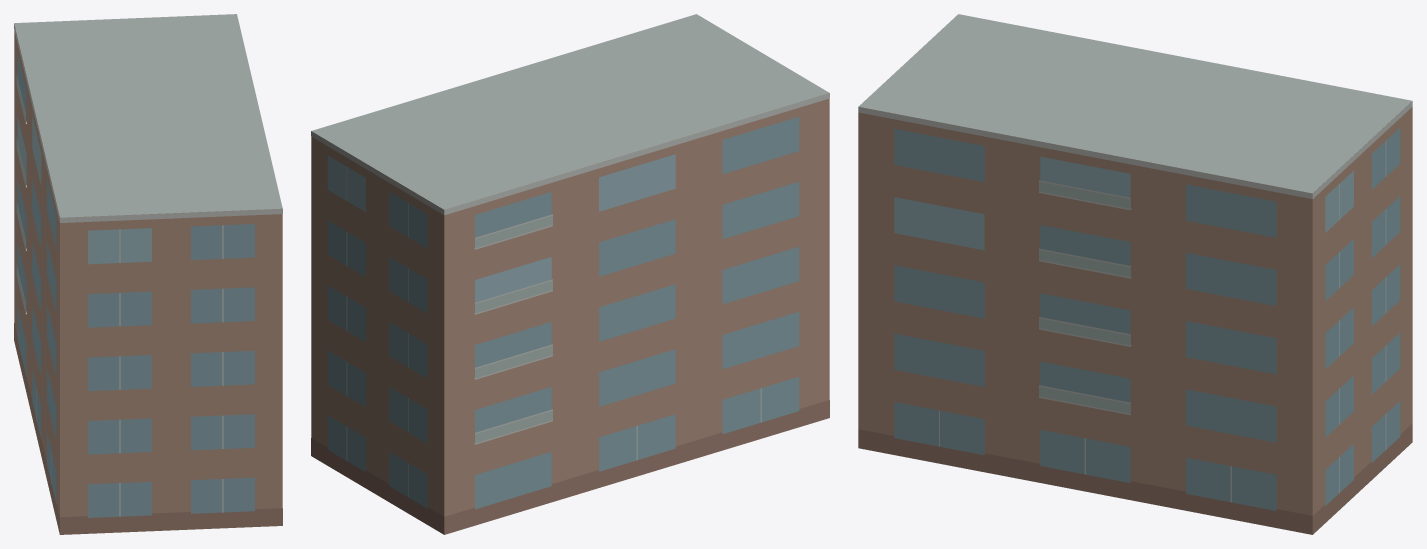
File: survey-upis-32926089.glb
3 renders of one model, left to right at view 1: azimuth 30°, elevation 25°; view 2: azimuth 150°, elevation 25°; view 3: azimuth 270°, elevation 25°, orthographic. The views are drawn at different scales.
Parts seen in each view (by area): view 1: survey-upis-32926089.tmp; view 2: survey-upis-32926089.tmp; view 3: survey-upis-32926089.tmp.
Boxes of the visible parts, left/top/right/bottom form: survey-upis-32926089.tmp: left=14, top=14, right=282, bottom=534; survey-upis-32926089.tmp: left=311, top=14, right=829, bottom=534; survey-upis-32926089.tmp: left=858, top=14, right=1412, bottom=534.
Bounding box in the file's own units: 16.35 × 14.5 × 21.34.
